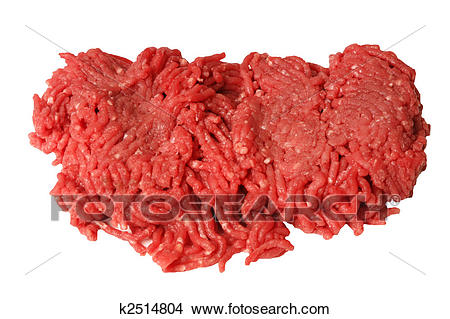ground_beef: (34, 46, 418, 258)
